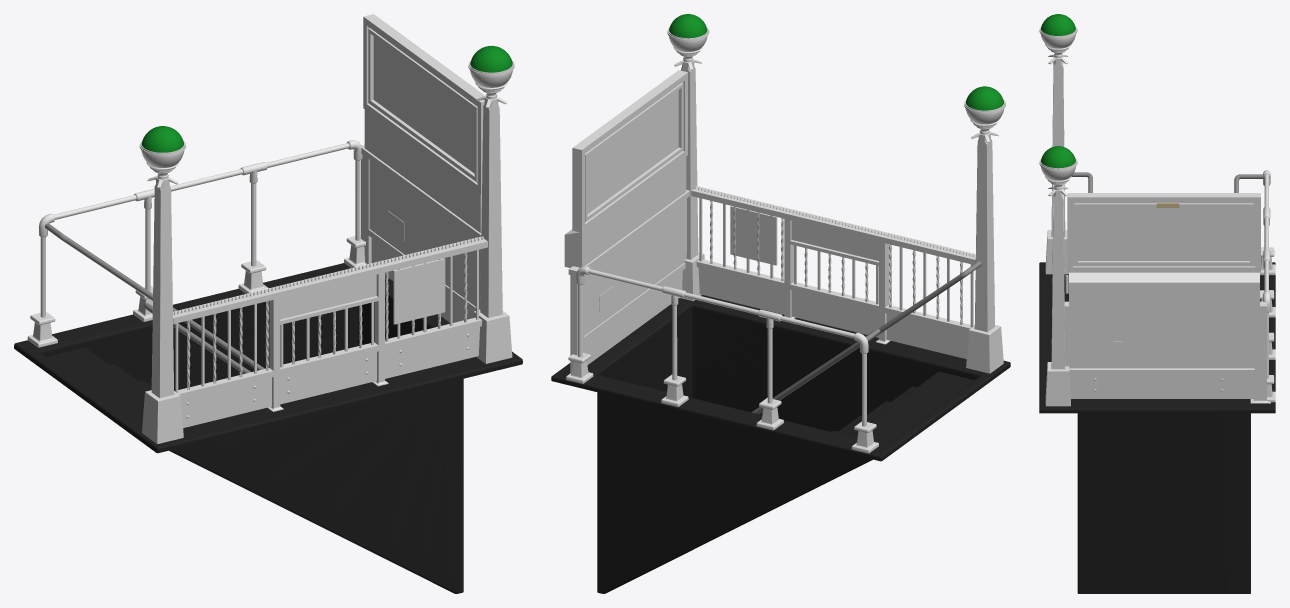
The model's file is subway 2.fbx.
3 views of the same model, side by side, from view 1: azimuth 30°, elevation 25°; view 2: azimuth 150°, elevation 25°; view 3: azimuth 270°, elevation 25° (orthographic). The views are drawn at different scales.
Parts seen in each view (by area): view 1: Subway, Outer Bars, pole, Adboard, Station Sign B, whateverthing, bars back, back, Sign Random, Sphere, Cube.001, Subway Sign (+1 smaller); view 2: Subway, Outer Bars, Adboard, pole, Station Sign B, back, whateverthing, bars back, Cube.001, Sign Random, Sphere, Subway Sign (+1 smaller); view 3: Subway, Adboard, Station Sign A, whateverthing, back, pole, Sphere, bars back, Cube.001, railing, sphere detail.
Part boxes in pixels (<box>): Subway: <box>14,263,522,593</box>; Outer Bars: <box>173,236,487,427</box>; pole: <box>142,82,512,444</box>; Adboard: <box>363,14,485,194</box>; Station Sign B: <box>369,160,481,309</box>; whateverthing: <box>364,109,481,232</box>; bars back: <box>39,140,362,317</box>; back: <box>361,145,481,322</box>; Sign Random: <box>393,258,445,324</box>; Sphere: <box>141,45,512,167</box>; Cube.001: <box>27,235,366,347</box>; Subway Sign: <box>280,274,376,319</box>; Subway: <box>551,295,1010,593</box>; Outer Bars: <box>691,186,975,358</box>; Adboard: <box>572,70,687,232</box>; pole: <box>673,47,1003,373</box>; Station Sign B: <box>584,198,686,335</box>; back: <box>568,190,689,372</box>; whateverthing: <box>564,157,686,267</box>; bars back: <box>576,266,868,426</box>; Cube.001: <box>566,352,878,453</box>; Sign Random: <box>730,205,777,265</box>; Sphere: <box>669,14,1003,124</box>; Subway Sign: <box>791,220,878,260</box>; Subway: <box>1039,262,1275,593</box>; Adboard: <box>1067,193,1260,272</box>; Station Sign A: <box>1064,311,1254,369</box>; whateverthing: <box>1065,272,1259,311</box>; back: <box>1064,301,1270,403</box>; pole: <box>1045,44,1071,406</box>; Sphere: <box>1041,14,1075,180</box>; bars back: <box>1263,170,1270,378</box>; Cube.001: <box>1260,247,1275,402</box>; railing: <box>1071,172,1263,192</box>; sphere detail: <box>1039,26,1077,171</box>.
Size of the model in its own units: 329 by 468 by 222.
